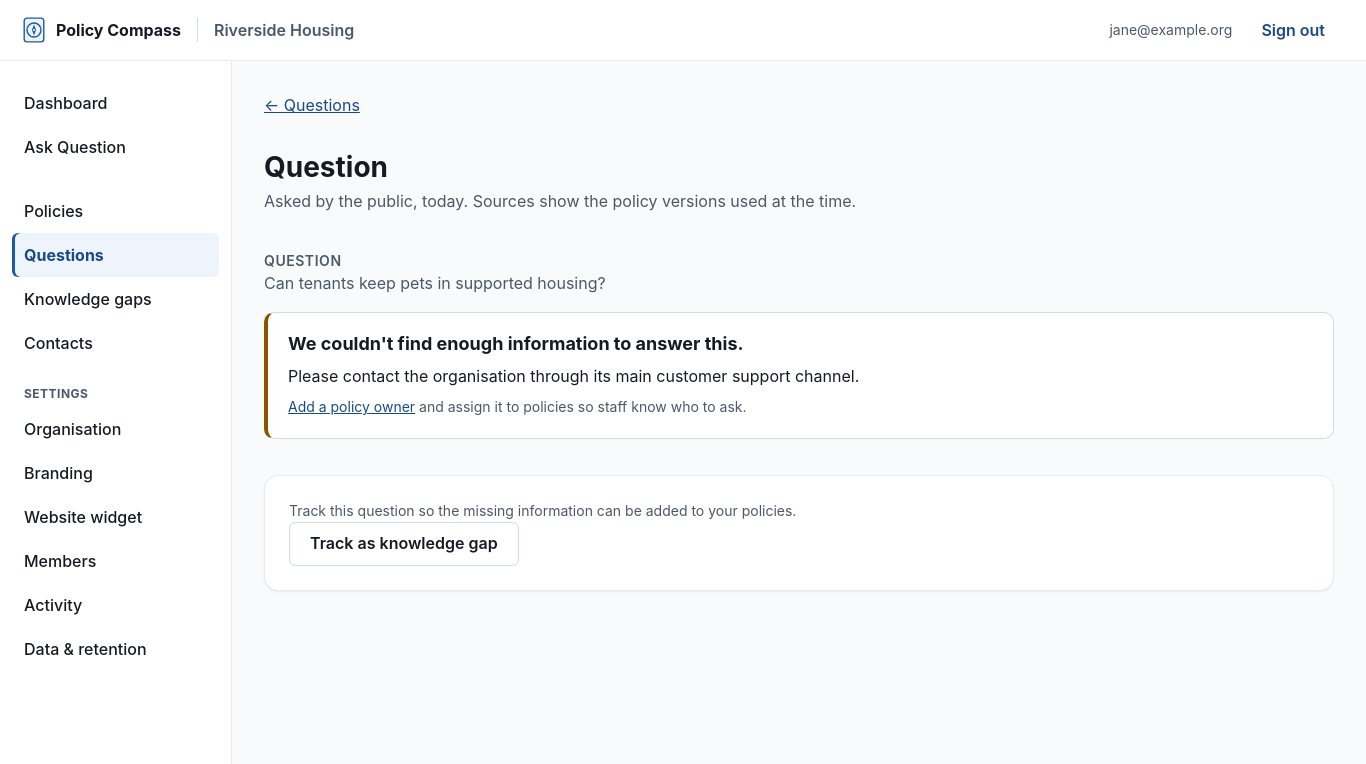
Test case: Knowledge gaps (US-033A) › an unanswered question can be tracked as a gap
Click the button "Track as knowledge gap" at point(404, 544), box [289, 522, 519, 566]
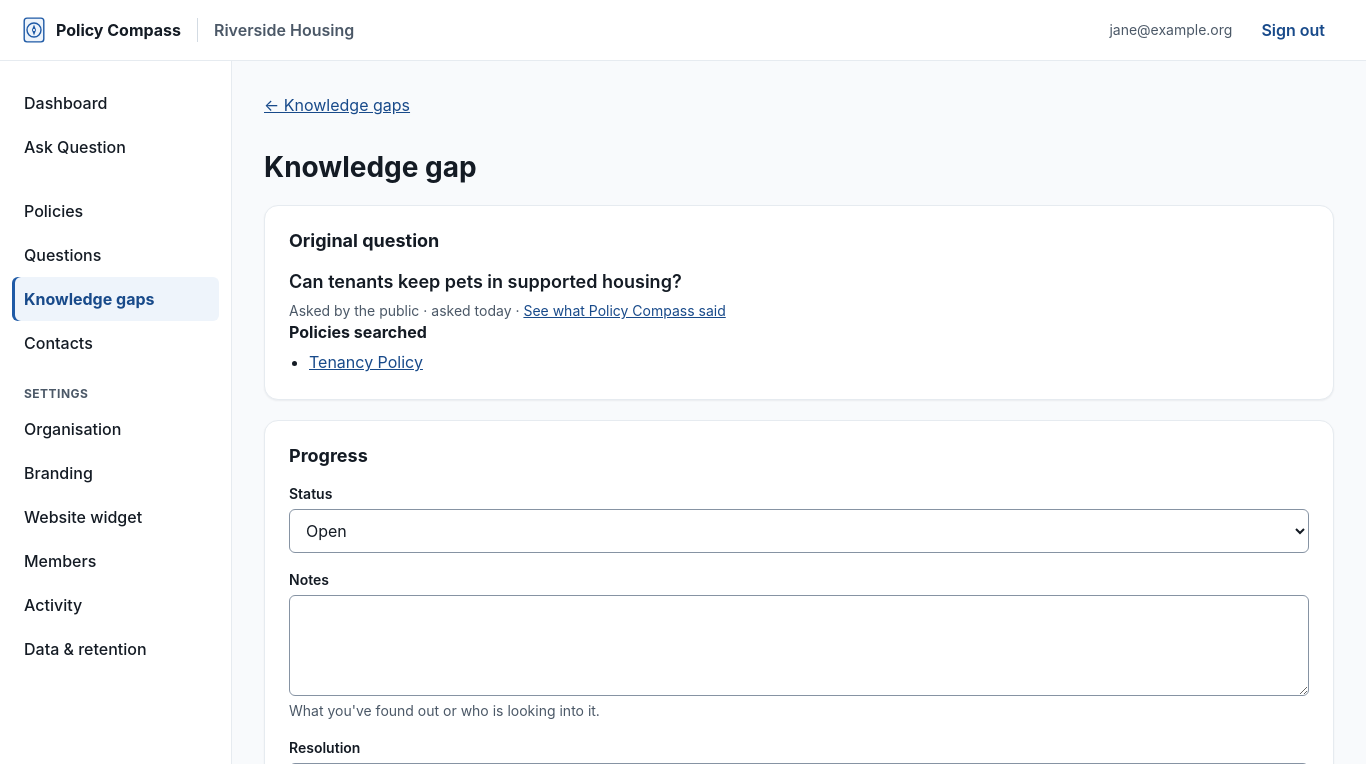
Expected: the heading "Knowledge gap" is shown, [264, 150, 477, 185]
